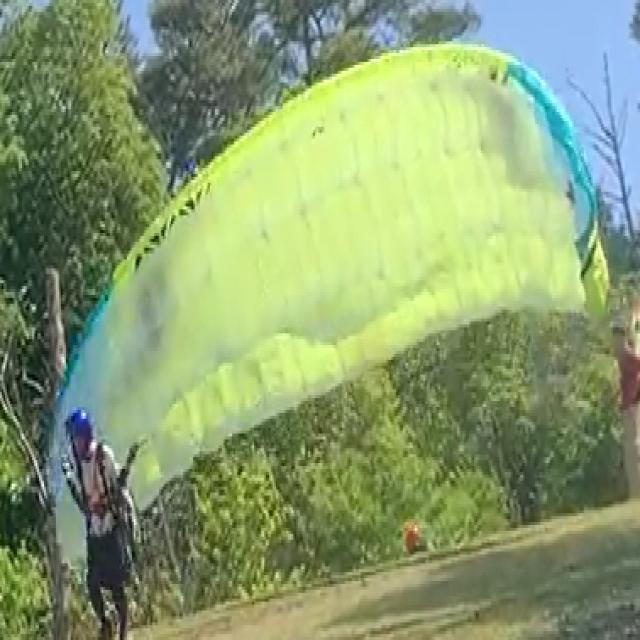paraglider: (41, 39, 611, 514)
